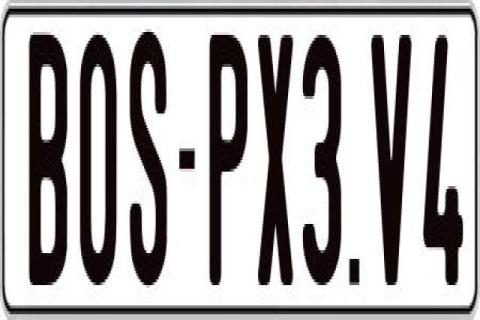0: (300, 29, 344, 282), (424, 32, 467, 285), (78, 29, 116, 288)
B: (27, 27, 66, 280)
P: (208, 35, 250, 297)
S: (129, 26, 169, 288)
V: (369, 29, 415, 294)
X: (256, 29, 294, 288)
